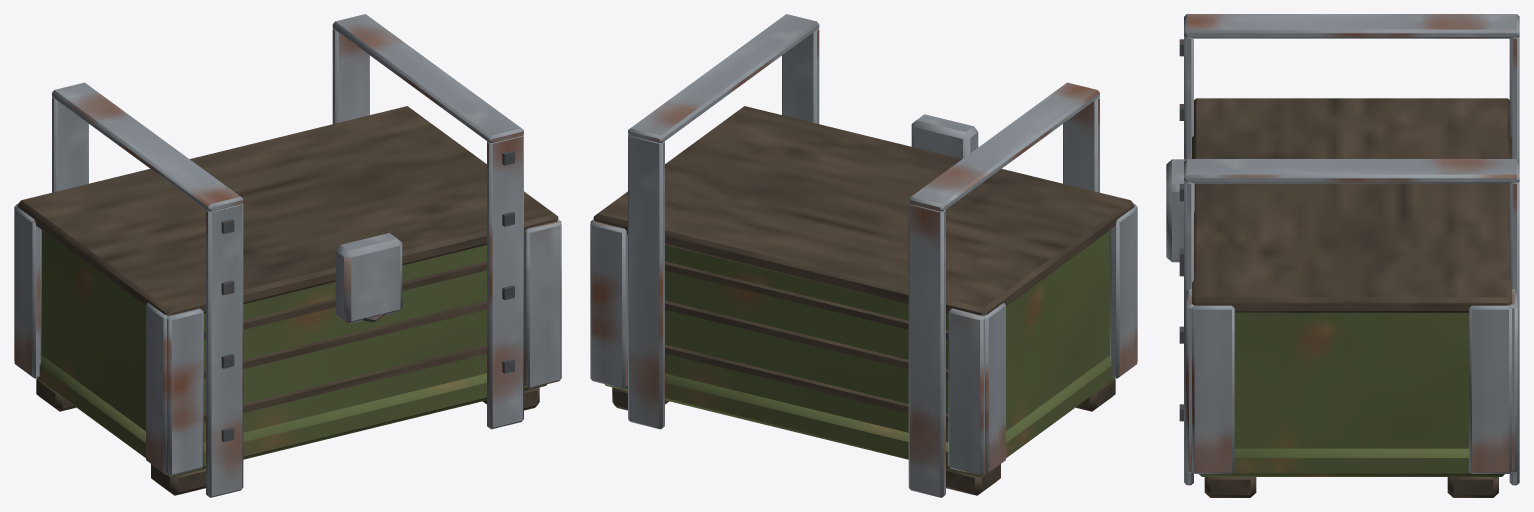
The model's file is SM_Chest_Uncommon.fbx.
3 views of the same model, side by side, from view 1: azimuth 30°, elevation 25°; view 2: azimuth 150°, elevation 25°; view 3: azimuth 270°, elevation 25° (orthographic). The views are drawn at different scales.
Parts seen in each view (by area): view 1: SM_Chest_Uncommon; view 2: SM_Chest_Uncommon; view 3: SM_Chest_Uncommon.
Boxes of the visible parts, x1,y1,x2,y2 form: SM_Chest_Uncommon: (14, 14, 561, 497); SM_Chest_Uncommon: (590, 14, 1137, 497); SM_Chest_Uncommon: (1166, 14, 1519, 497).
Bounding box in the file's own units: 3.4 × 2.4 × 2.48.
Materials: 1 (1 with a texture image).
